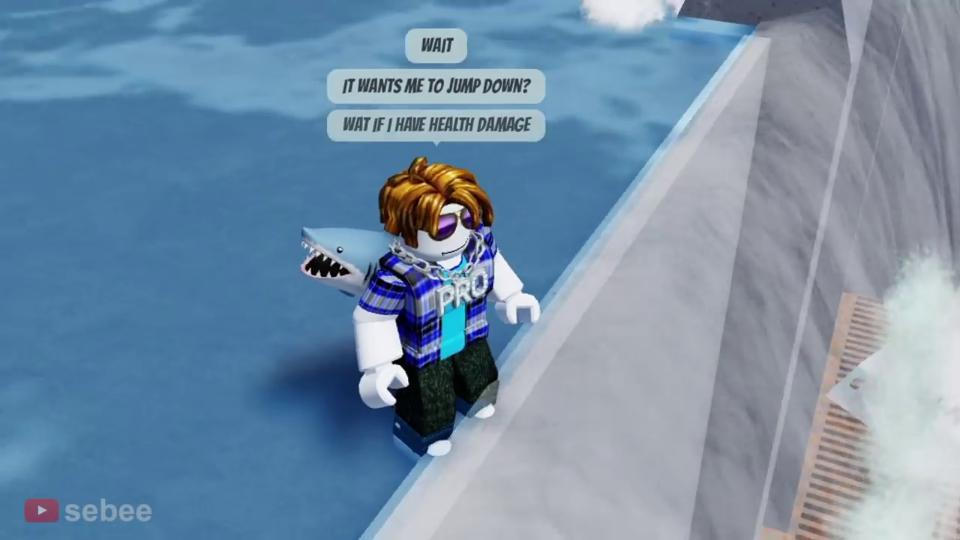Character: (351, 155, 540, 457)
